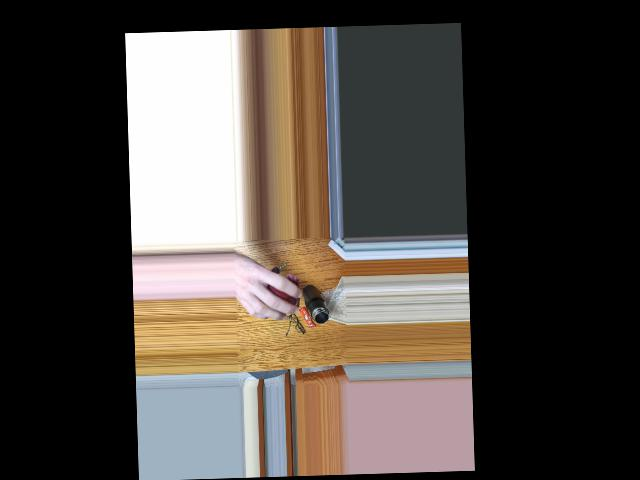onion: (260, 274, 293, 315)
